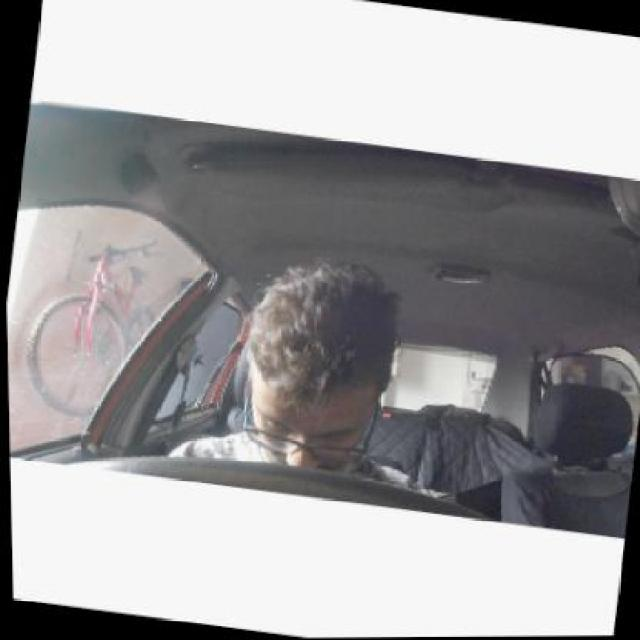drowsy: (231, 258, 407, 470)
